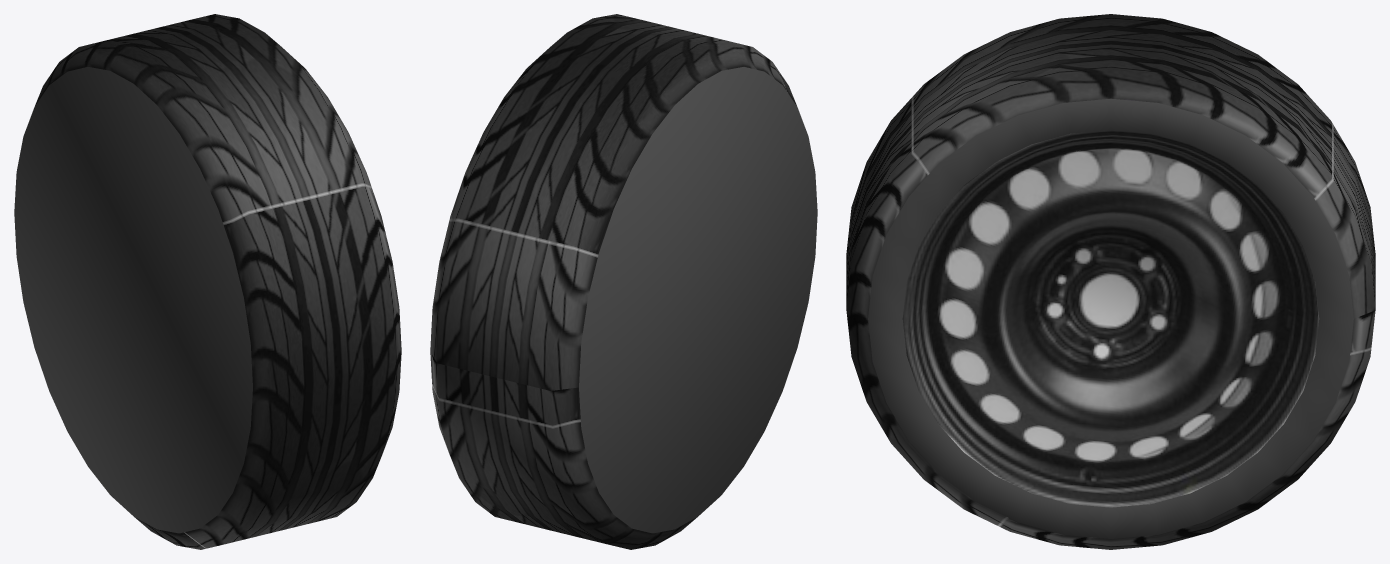
File: wheel7.fbx
3 views of the same model, side by side, from view 1: azimuth 30°, elevation 25°; view 2: azimuth 150°, elevation 25°; view 3: azimuth 270°, elevation 25° (orthographic).
Visible parts, largest first — view 1: Cylinder; view 2: Cylinder; view 3: Cylinder.
Boxes of the visible parts, x1,y1,x2,y2 form: Cylinder: [14, 14, 401, 549]; Cylinder: [430, 14, 817, 549]; Cylinder: [846, 14, 1375, 549].
Bounding box in the file's own units: 65.52 × 196 × 196.
Materials: 1 (1 with a texture image).
